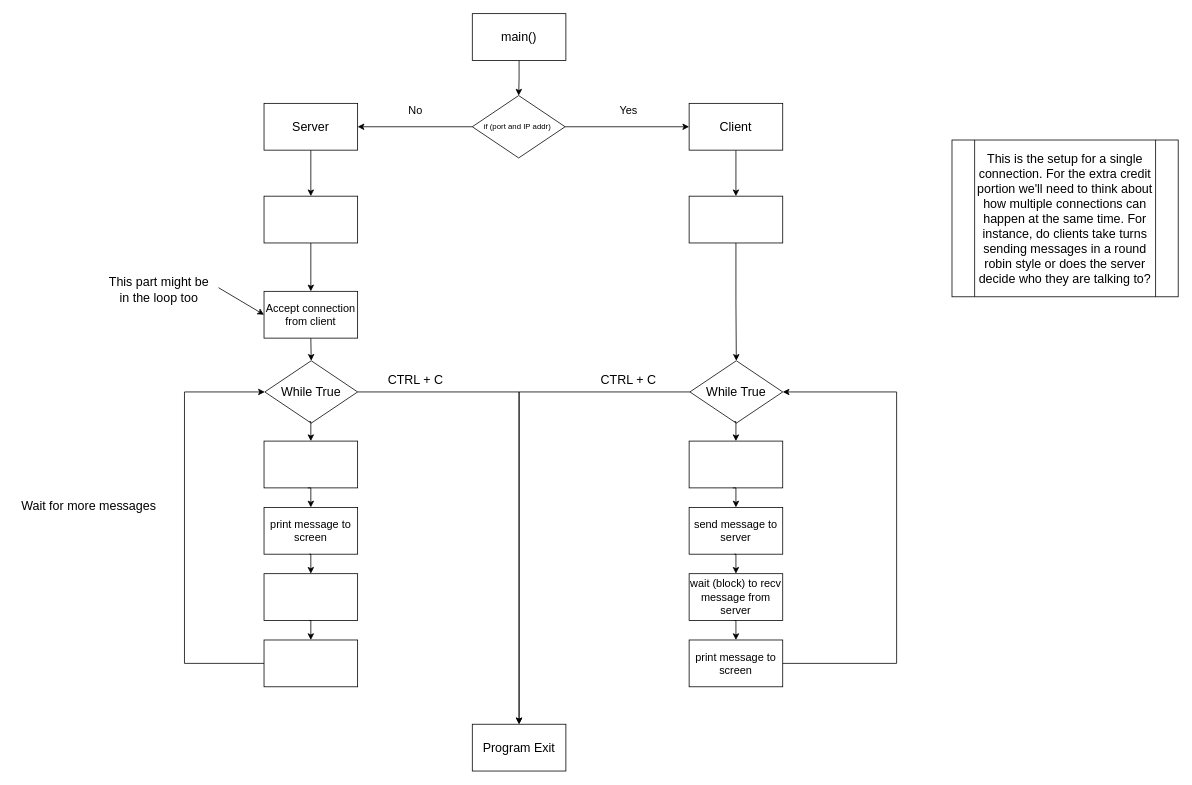
The diagram is 1192 pixels wide and 785 high, and some of its shapes have lost their labels. The shapes that lost their labels are listed below. From the top down, each one's centre as x and y in pixels, then its label:
the point at 310,219: Setup Socket to listen on host IP and some port
the point at 735,219: Setup Socket to connect to server address and port
the point at 310,464: Wait (block) to recv message from client
the point at 735,464: prompt user for message
the point at 310,596: prompt serv user for message to send
the point at 310,663: send mesage
